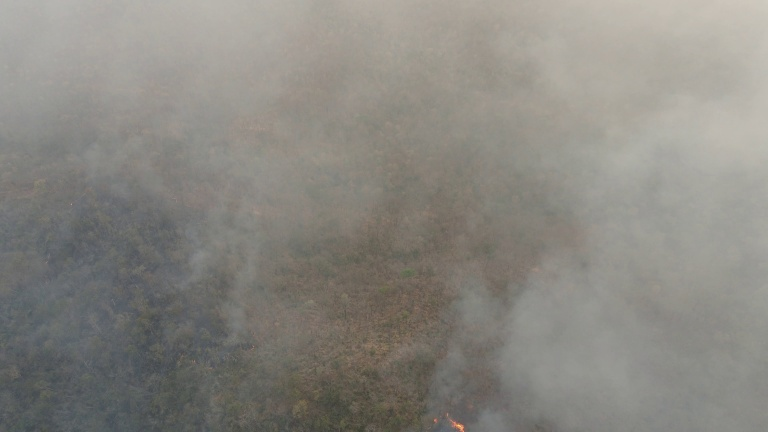fire: (429, 406, 475, 432)
smoke: (446, 1, 768, 432), (2, 1, 434, 269)
